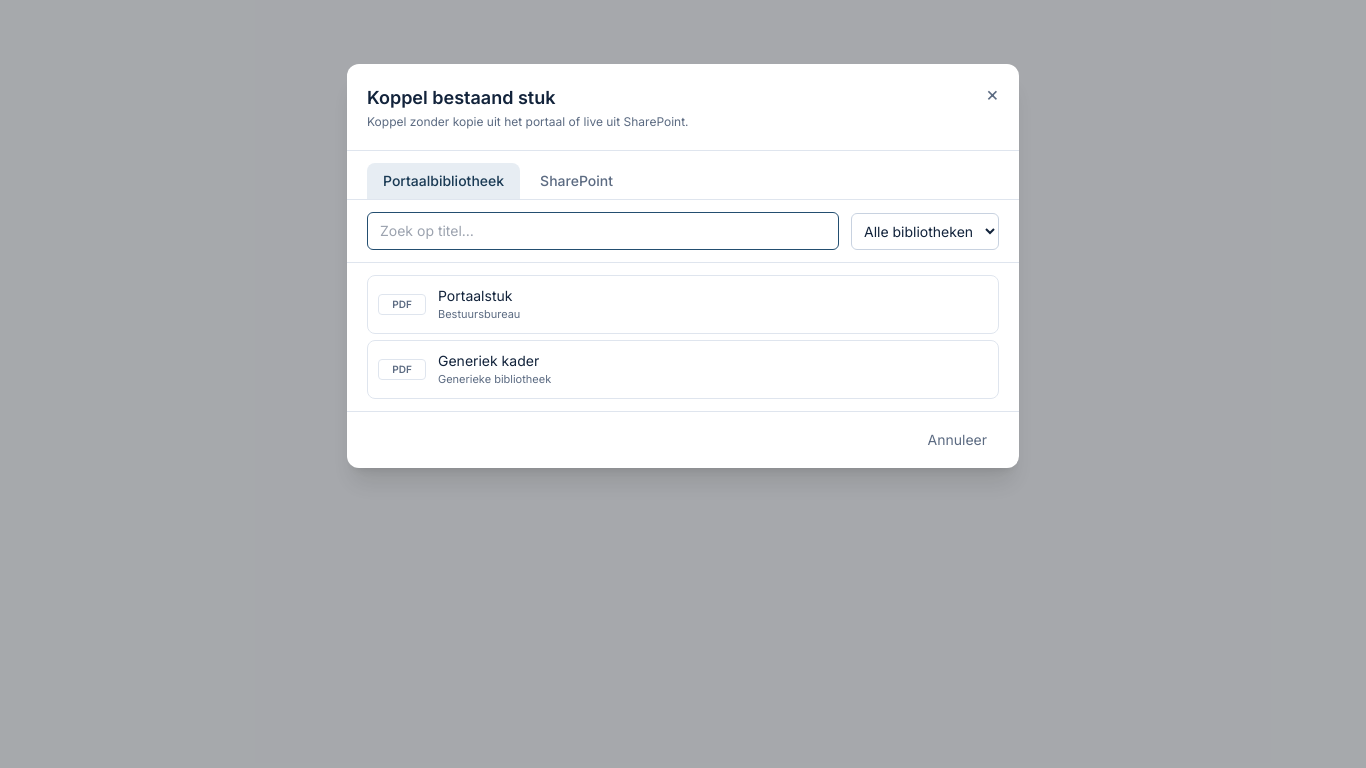
Scenario: AgendapuntBronPicker › behoudt in de portaal-tab het filter Alle bibliotheken, Fonds en Generiek
Expected: the text "Portaalstuk" is shown, [438,286,520,306]
Expected: the text "Generiek kader" is shown, [438,351,551,371]
Select "Generiek" in the dropdown named "Filter bibliotheek": (925, 231) [851,212,999,250]
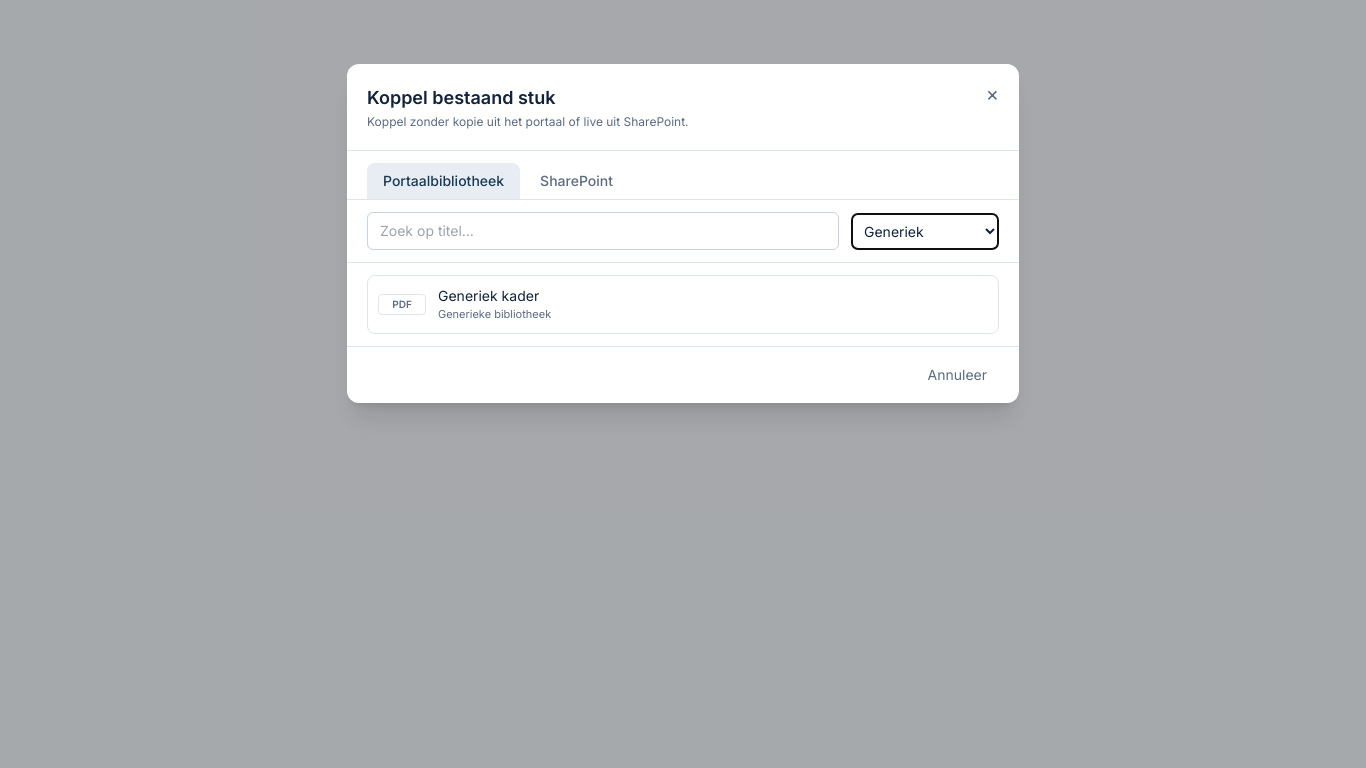
Expected: the text "Generiek kader" is shown, [438,286,551,306]
Result: the button "Portaalstuk" is gone
Select "Fonds" in the dropdown named "Filter bibliotheek": (925, 231) [851,212,999,250]
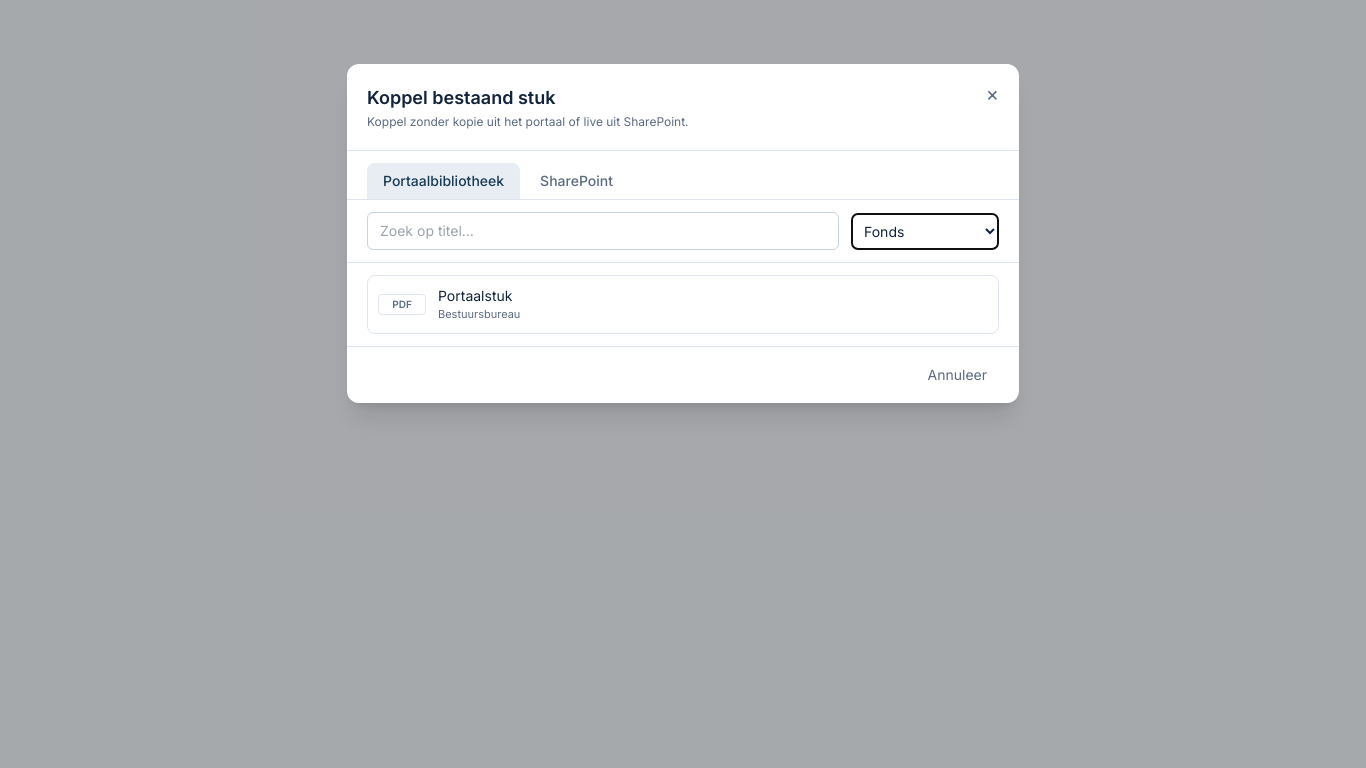
Result: the text "Portaalstuk" is shown at [438,286,520,306]
Result: the button "Generiek kader" is gone
